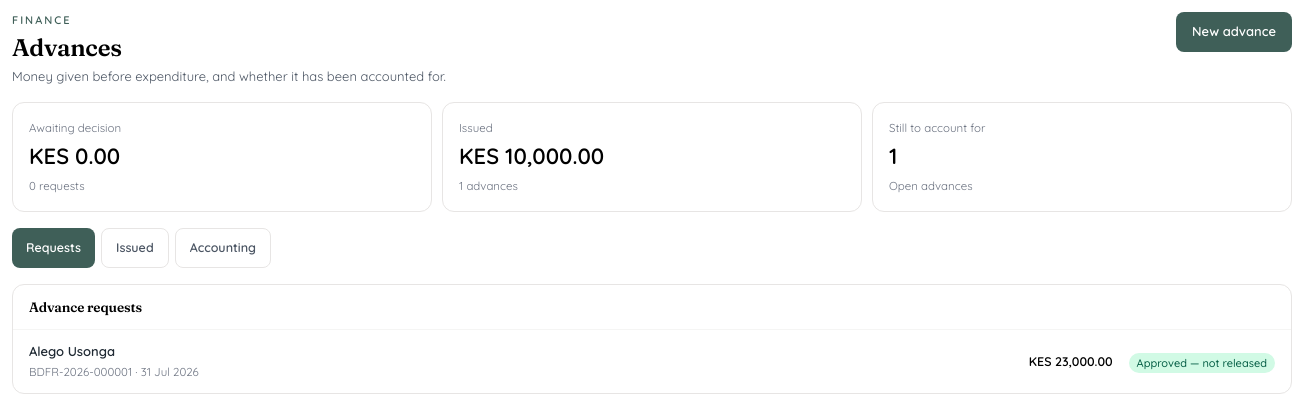
Test: Advances admin surfaces › shows issued advances and their accounting state, and never a direct payment
Click the tab "Issued": (135, 248) [101,228,169,268]
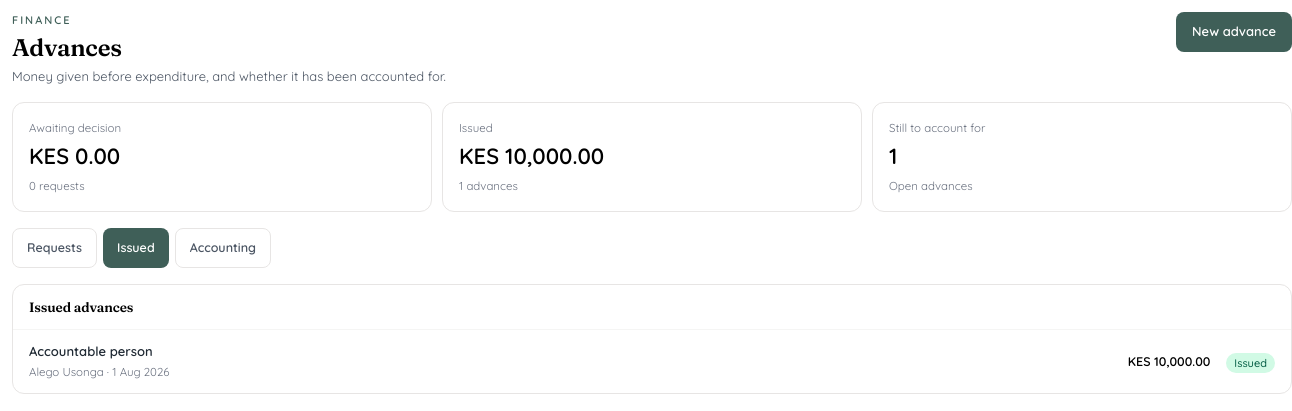
Expected: the text "KES 10,000.00" in the row of "KES 0.00" is shown, [459,142,604,170]
Result: the heading "Issued advances" is shown at [29,298,133,314]
Result: the link "KES 23,000.00" is gone
Click the tab "Accounting": (223, 248) [175,228,271,268]
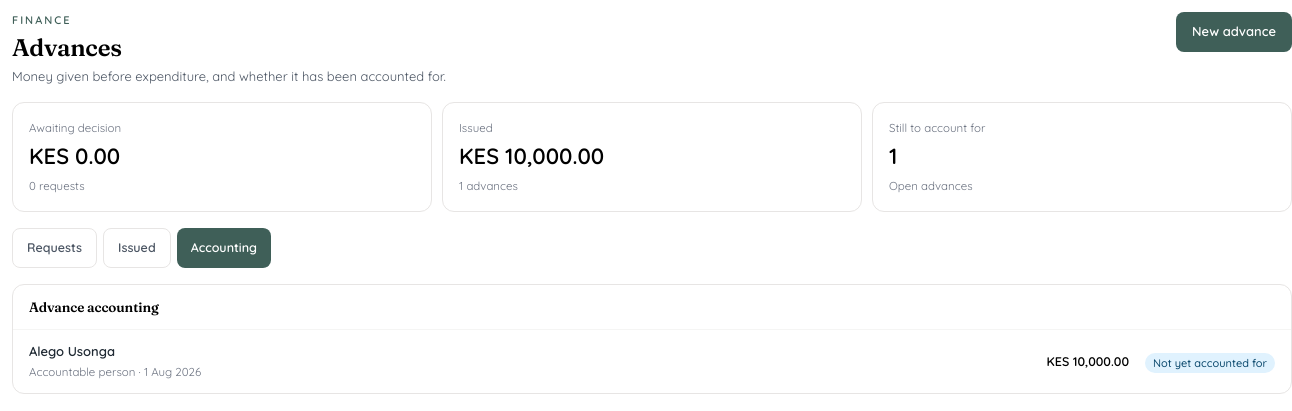
Result: the text "Not yet accounted for" is shown at [1145,353,1275,373]
